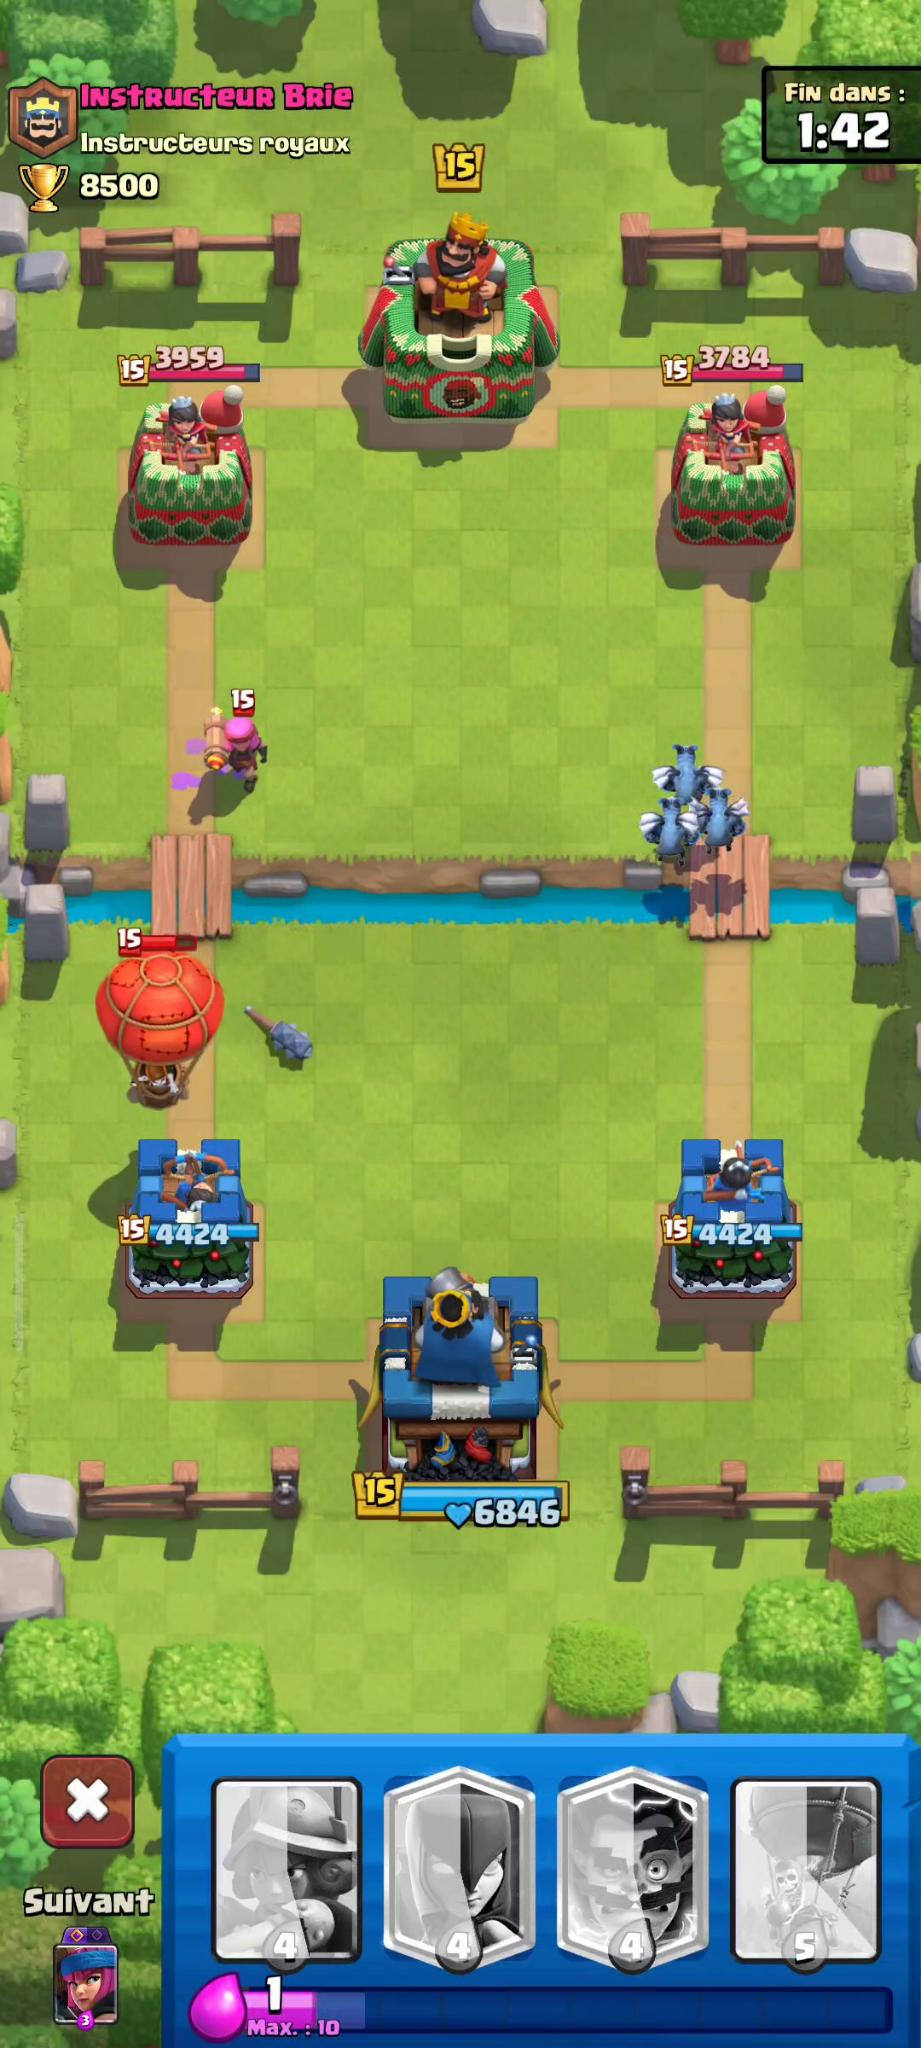gargouille: (653, 746, 722, 812), (645, 806, 702, 878), (700, 792, 738, 859)
